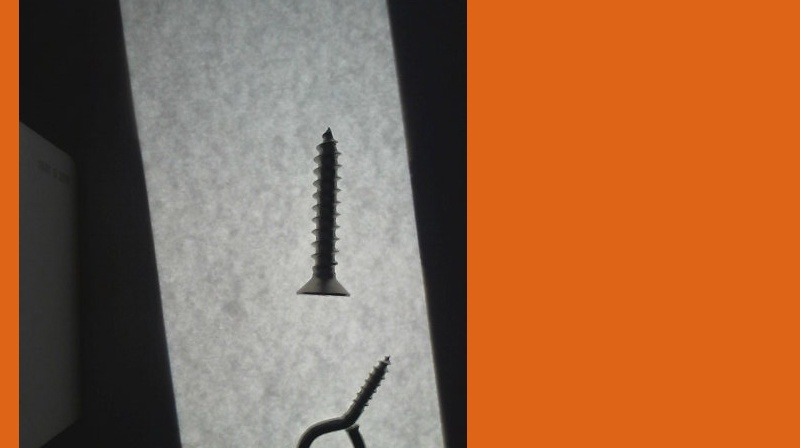O001: (298, 355, 391, 447)
S001: (294, 123, 351, 299)
